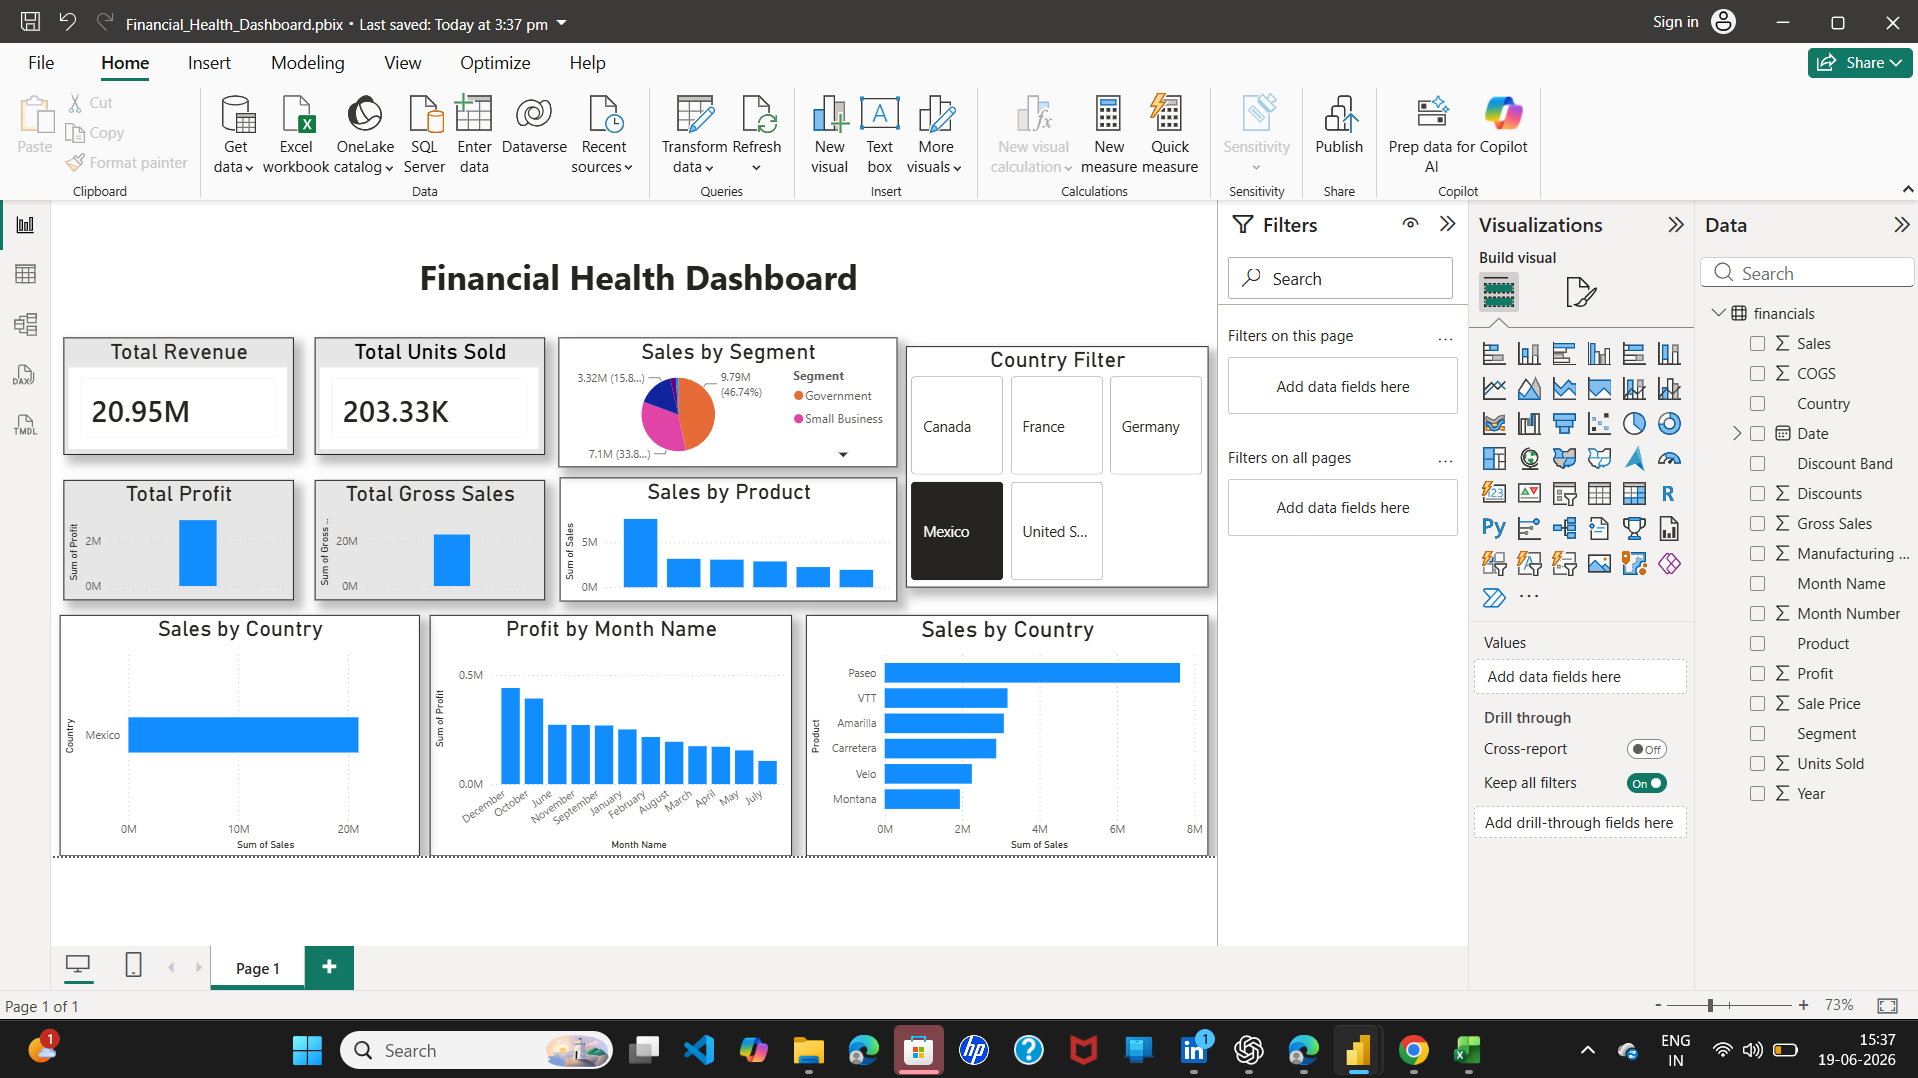

What the dashboard file says about the page in this screenshot:
{"tool":"powerbi","page":{"name":"Page 1","canvas":[1280,720],"ordinal":0},"visuals":[{"type":"textbox","box":[10,0,280,280],"z":0},{"type":"textbox","box":[9.6,53.5,1270.7,74.1],"z":1000},{"type":"cardVisual","title":"Total Revenue","fields":{"Data":["Sum(financials. Sales)"]},"box":[13.7,150.9,252.5,129],"z":2000},{"type":"columnChart","title":"Total Profit","fields":{"Y":["Sum(financials.Profit)"]},"box":[13.7,307.4,252.5,131.7],"z":3000},{"type":"columnChart","title":"Total Gross Sales","fields":{"Y":["Sum(financials.Gross Sales)"]},"box":[289.5,307.4,252.5,131.7],"z":4000},{"type":"cardVisual","title":"Total Units Sold","fields":{"Data":["Sum(financials.Units Sold)"]},"box":[289.5,150.9,252.5,129],"z":5000},{"type":"clusteredColumnChart","title":"  Sales by Product","fields":{"Category":["financials.Product"],"Y":["Sum(financials. Sales)"]},"box":[558.5,304.6,370.5,135.8],"z":6000},{"type":"columnChart","title":"Profit by Month Name","fields":{"Category":["financials.Month Name"],"Y":["Sum(financials.Profit)"]},"box":[415.8,455.6,397.9,264.8],"z":7000},{"type":"pieChart","title":"Sales by Segment","fields":{"Category":["financials.Segment"],"Y":["Sum(financials. Sales)"]},"box":[557.1,150.9,371.9,142.7],"z":8000},{"type":"clusteredBarChart","title":"Sales by Country","fields":{"Category":["financials.Product"],"Y":["Sum(financials. Sales)"]},"box":[828.8,455.6,441.9,264.8],"z":9000},{"type":"clusteredBarChart","title":"Sales by Country","fields":{"Category":["financials.Country"],"Y":["Sum(financials. Sales)"]},"box":[9.6,455.6,395.2,264.8],"z":10000},{"type":"advancedSlicerVisual","title":"Country Filter","fields":{"Values":["financials.Country"]},"box":[938.6,160.5,332.1,264.8],"z":10001}]}

Visuals, with their boxes on the page's 1280x720 design canvas (x1, y1, x2, y2). These are canvas units, not pixel positions in the 1918x1078 screenshot, which may show the page scaled, cropped or inside an application window:
textbox: [x1=10, y1=0, x2=290, y2=280]
textbox: [x1=10, y1=54, x2=1280, y2=128]
"Total Revenue" cardVisual: [x1=14, y1=151, x2=266, y2=280]
"Total Profit" columnChart: [x1=14, y1=307, x2=266, y2=439]
"Total Gross Sales" columnChart: [x1=290, y1=307, x2=542, y2=439]
"Total Units Sold" cardVisual: [x1=290, y1=151, x2=542, y2=280]
"  Sales by Product" clusteredColumnChart: [x1=558, y1=305, x2=929, y2=440]
"Profit by Month Name" columnChart: [x1=416, y1=456, x2=814, y2=720]
"Sales by Segment" pieChart: [x1=557, y1=151, x2=929, y2=294]
"Sales by Country" clusteredBarChart: [x1=829, y1=456, x2=1271, y2=720]
"Sales by Country" clusteredBarChart: [x1=10, y1=456, x2=405, y2=720]
"Country Filter" advancedSlicerVisual: [x1=939, y1=160, x2=1271, y2=425]
